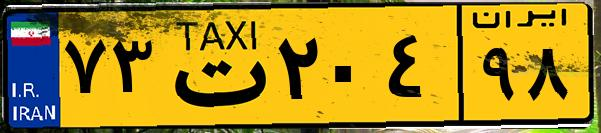0: (330, 28, 385, 110)
2: (270, 28, 330, 110)
3: (110, 28, 158, 98)
4: (385, 28, 445, 110)
7: (57, 26, 110, 100)
8: (525, 38, 570, 115)
9: (475, 38, 525, 113)
ت: (158, 12, 270, 120)
